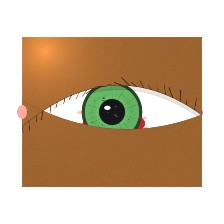hemorrhage_spot: (71, 89, 157, 158)
